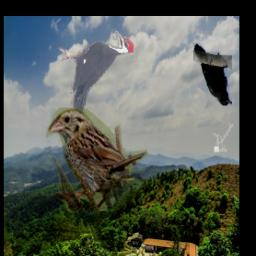Crow: (193, 44, 232, 107)
Sparrow: (46, 108, 147, 211)
Woodpecker: (59, 29, 135, 117)
